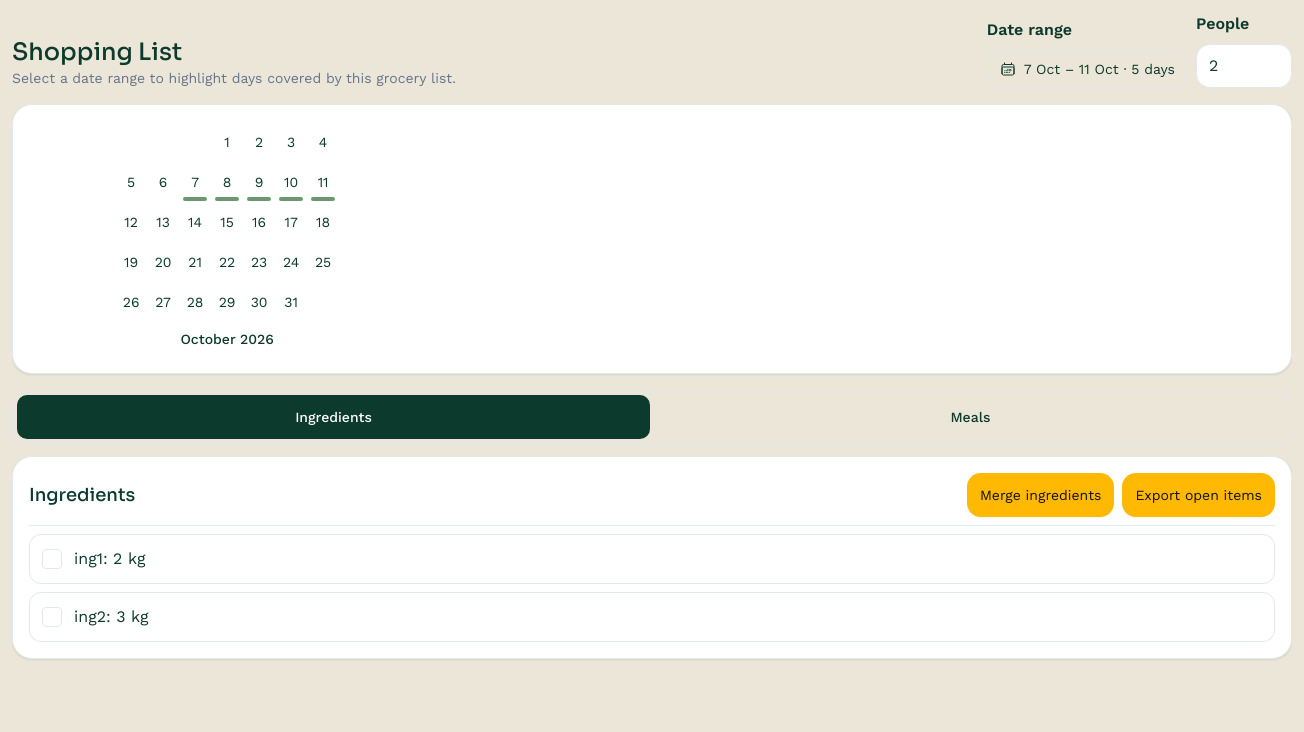
Test: mobile can switch to the meal list
The image size is (1304, 732).
Expected: the button "ing1: 2 kg" is shown, [29,534,1275,584]
Click the button "Meals": (970, 417) [654,395,1287,439]
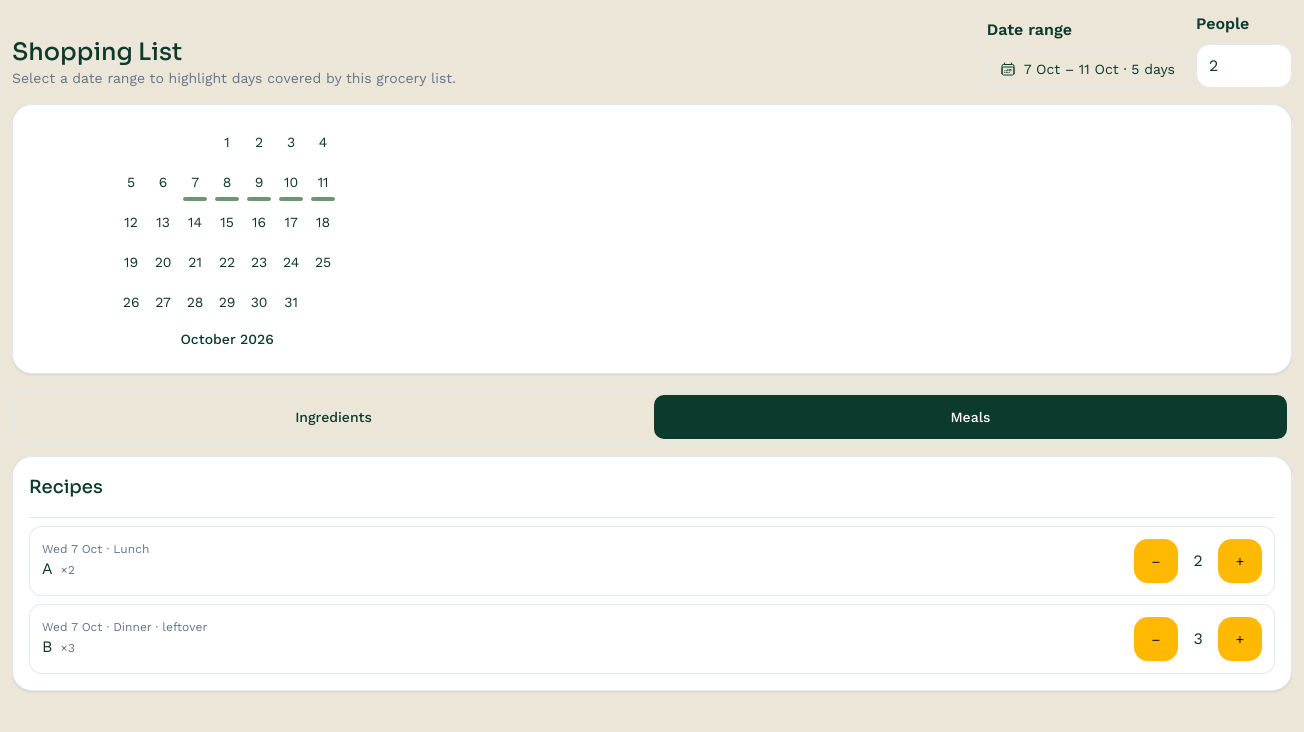
Now the text "A" is shown, box [42,559,53,578]
Now the button "ing1: 2 kg" is gone
